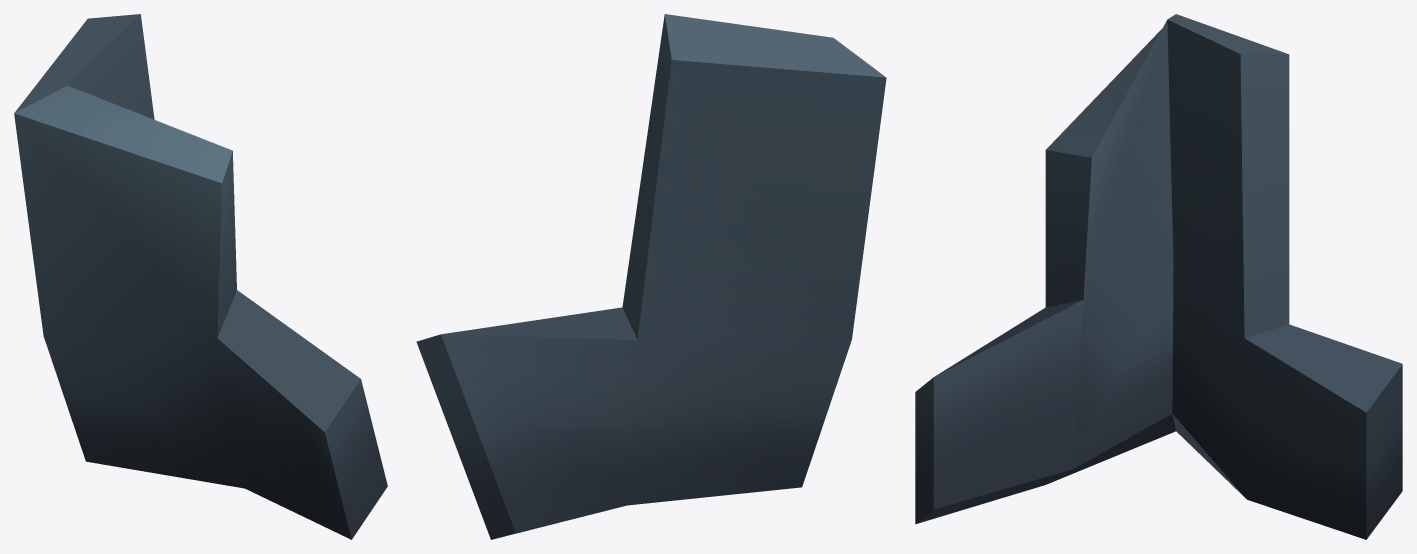
Rendered from Building_T021.fbx.
3 renders of one model, left to right at view 1: azimuth 30°, elevation 25°; view 2: azimuth 150°, elevation 25°; view 3: azimuth 270°, elevation 25°, orthographic. The views are drawn at different scales.
Parts seen in each view (by area): view 1: Building_T021; view 2: Building_T021; view 3: Building_T021.
Part boxes in pixels (x1,y1,x2,y2): Building_T021: (14, 14, 387, 539); Building_T021: (416, 14, 886, 539); Building_T021: (915, 14, 1402, 539).
Bounding box in the file's own units: 8.43 × 11.11 × 11.1.
